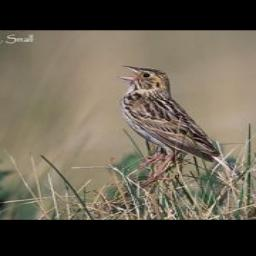Sparrow: (112, 62, 250, 189)
